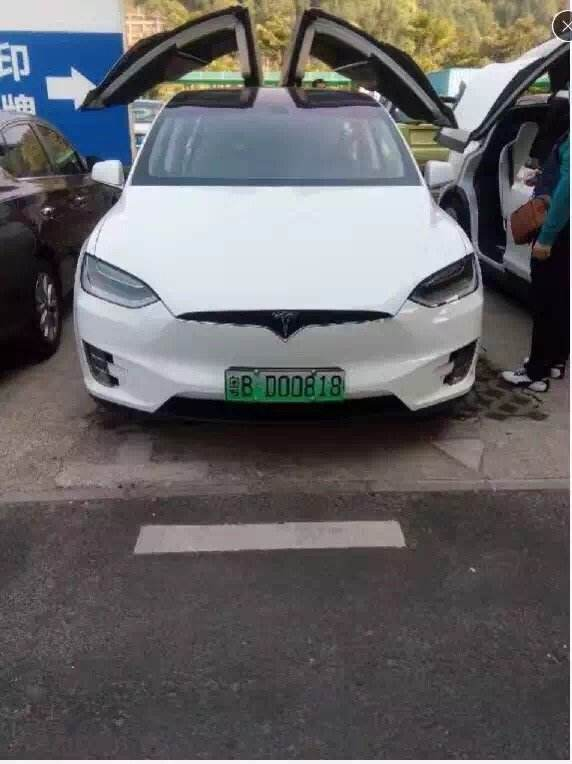plate: (213, 353, 353, 415)
